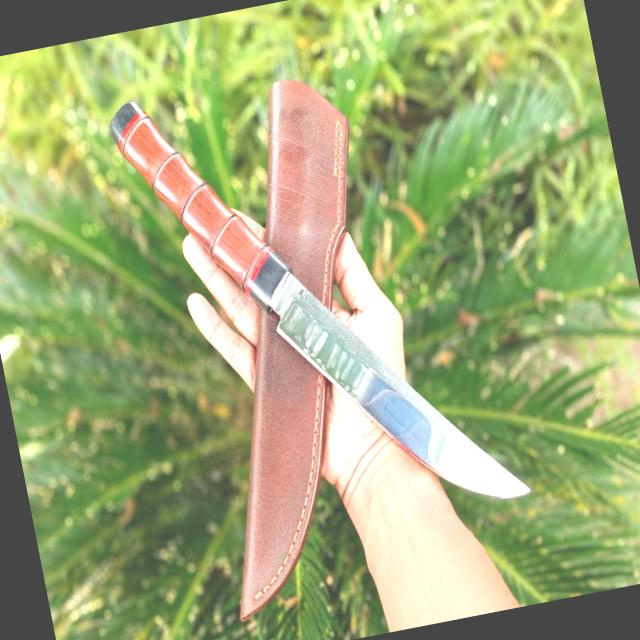short sword: (101, 31, 544, 583)
